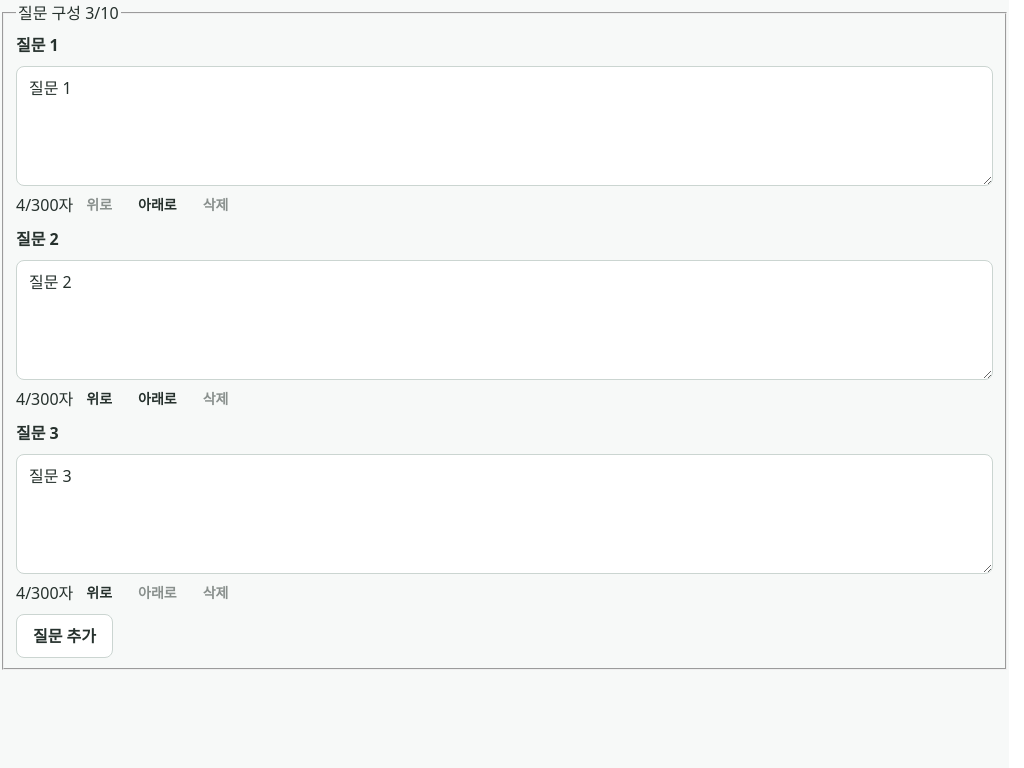
Test: validation components › adds, removes, and reorders compact interview questions
Click the button "질문 추가". click: click(64, 636)
box: [16,614,113,658]
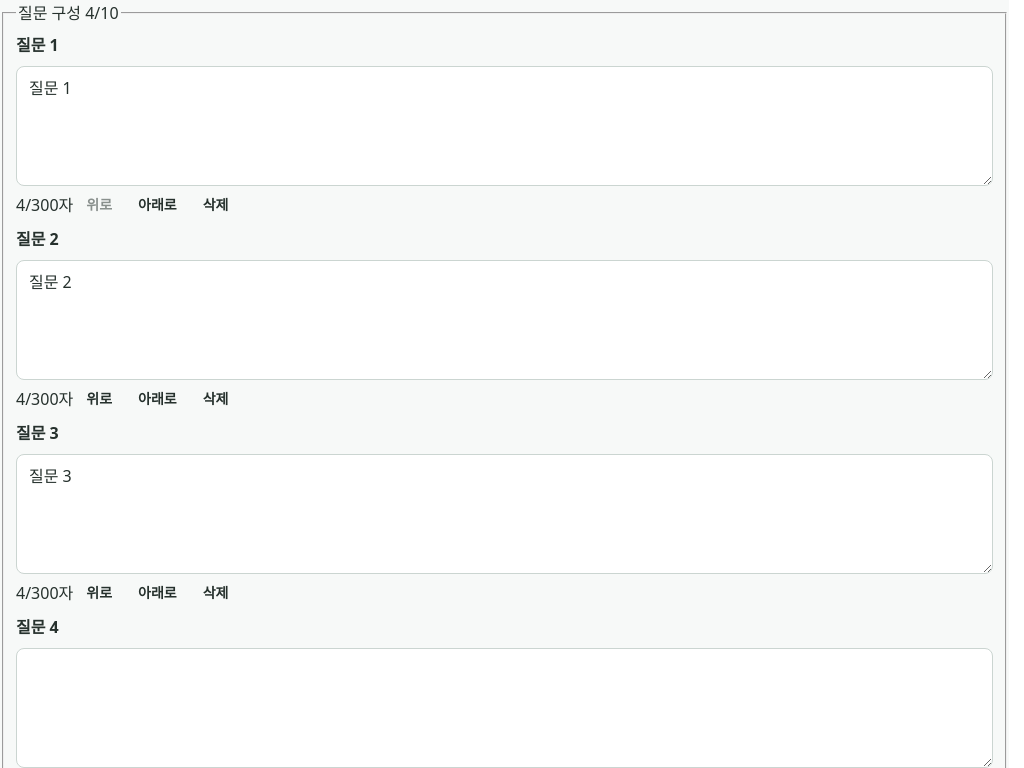
Expected: the text box labelled "질문 4" is shown, [16,648,993,767]
Click the button "아래로" below "질문 1". click: click(157, 206)
box: [125,186,190,226]
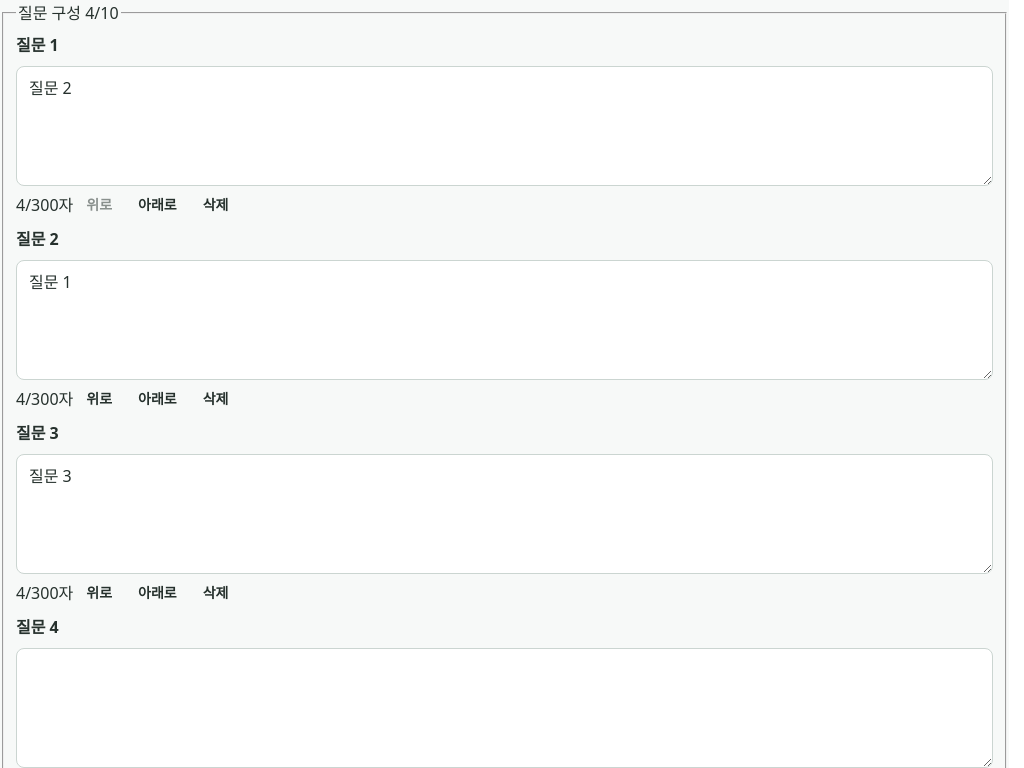
Expected: the text box labelled "질문 1" holds "질문 2", [16,66,993,186]
Click the button "삭제" below "질문 1". click: click(216, 206)
box: [190,186,242,226]
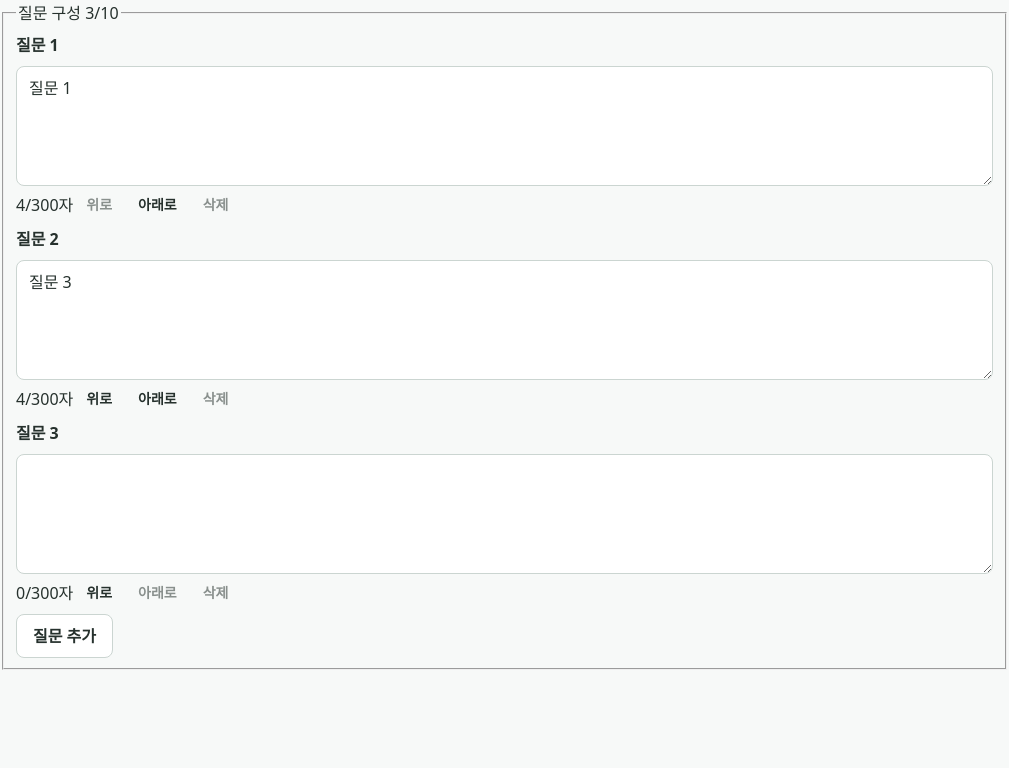
Expected: the label labelled "질문 4" is gone
